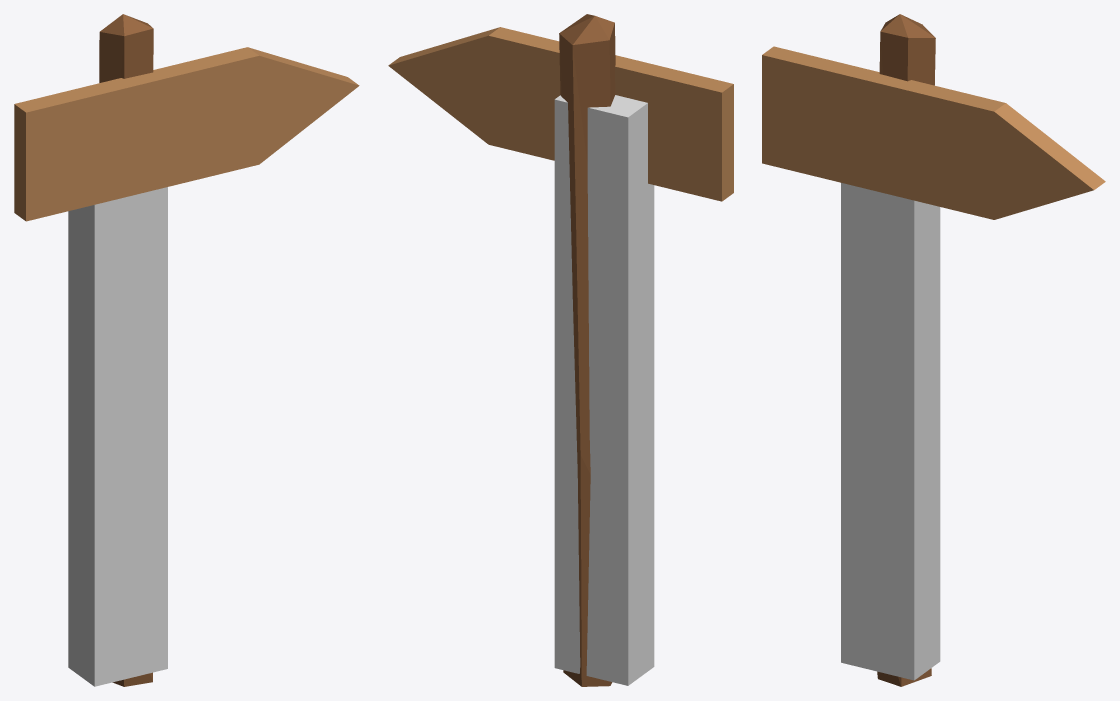
Rendered from pointer_2.glb.
The picture shows the model from 3 angles, left to right: view 1: azimuth 30°, elevation 25°; view 2: azimuth 150°, elevation 25°; view 3: azimuth 330°, elevation 25°; orthographic projection.
Parts seen in each view (by area): view 1: Cube.009, Pointer_02; view 2: Cube.009, Pointer_02; view 3: Cube.009, Pointer_02.
Boxes of the visible parts, <box> form: Cube.009: <box>68,187,167,686</box>; Pointer_02: <box>14,14,359,686</box>; Cube.009: <box>554,95,654,685</box>; Pointer_02: <box>388,14,733,686</box>; Cube.009: <box>841,183,940,680</box>; Pointer_02: <box>762,14,1105,686</box>.
Size of the model in its own units: 0.8961 by 1.7 by 0.168.
1 material, 1 textured.
